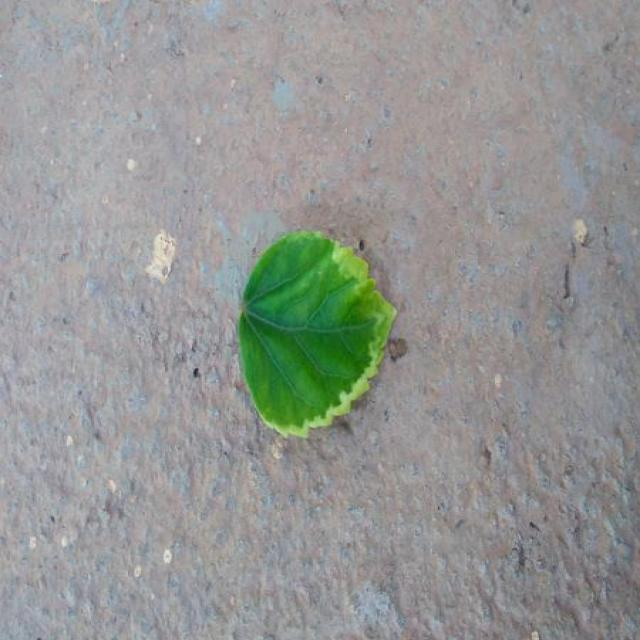Hibiscus: (238, 231, 397, 437)
